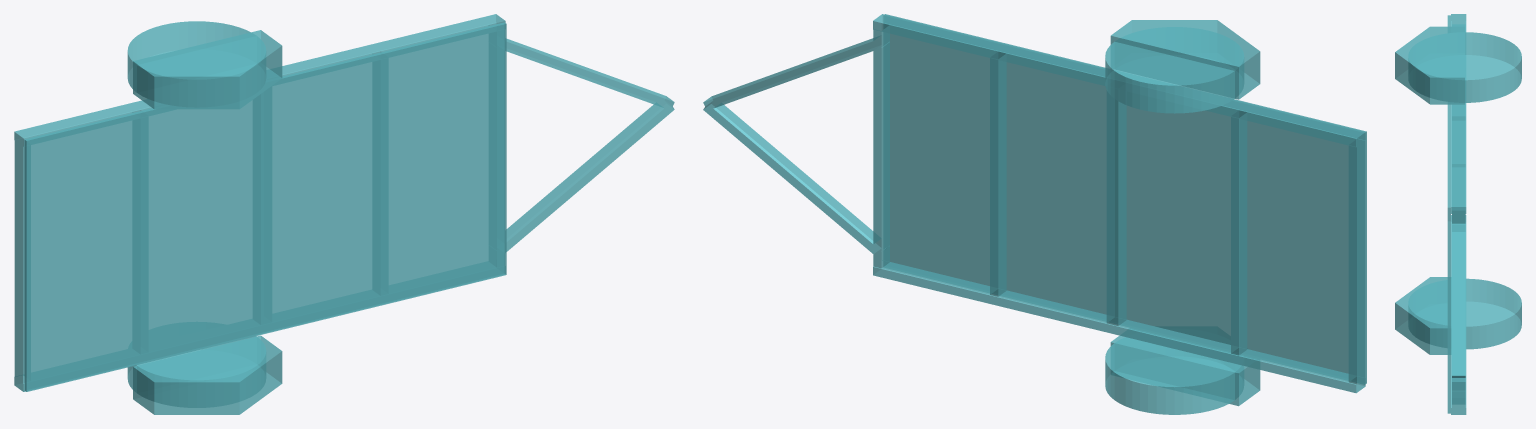
Rendered from harbor-freight.glb.
3 renders of one model, left to right at view 1: azimuth 30°, elevation 25°; view 2: azimuth 150°, elevation 25°; view 3: azimuth 270°, elevation 25°, orthographic. The views are drawn at different scales.
Parts seen in each view (by area): view 1: CAD solid 5, CAD solid 0, CAD solid 3, CAD solid 4, CAD solid 2, CAD solid 1; view 2: CAD solid 5, CAD solid 0, CAD solid 3, CAD solid 4, CAD solid 1, CAD solid 2; view 3: CAD solid 3, CAD solid 1, CAD solid 0, CAD solid 4, CAD solid 2, CAD solid 5.
Boxes of the visible parts, x1=… form: CAD solid 5: x1=24, y1=22, x2=506, y2=391; CAD solid 0: x1=14, y1=14, x2=674, y2=391; CAD solid 3: x1=127, y1=21, x2=265, y2=107; CAD solid 4: x1=133, y1=30, x2=282, y2=109; CAD solid 2: x1=133, y1=335, x2=282, y2=414; CAD solid 1: x1=127, y1=336, x2=265, y2=407; CAD solid 5: x1=883, y1=14, x2=1366, y2=384; CAD solid 0: x1=703, y1=14, x2=1365, y2=393; CAD solid 3: x1=1105, y1=27, x2=1243, y2=113; CAD solid 4: x1=1110, y1=20, x2=1260, y2=99; CAD solid 1: x1=1105, y1=337, x2=1243, y2=414; CAD solid 2: x1=1110, y1=335, x2=1260, y2=406; CAD solid 3: x1=1408, y1=32, x2=1521, y2=102; CAD solid 1: x1=1408, y1=278, x2=1521, y2=349; CAD solid 0: x1=1451, y1=14, x2=1466, y2=414; CAD solid 4: x1=1395, y1=26, x2=1464, y2=104; CAD solid 2: x1=1395, y1=277, x2=1447, y2=354; CAD solid 5: x1=1447, y1=15, x2=1450, y2=413.
Bounding box in the file's own units: 3.31 × 1.64 × 0.6798.
